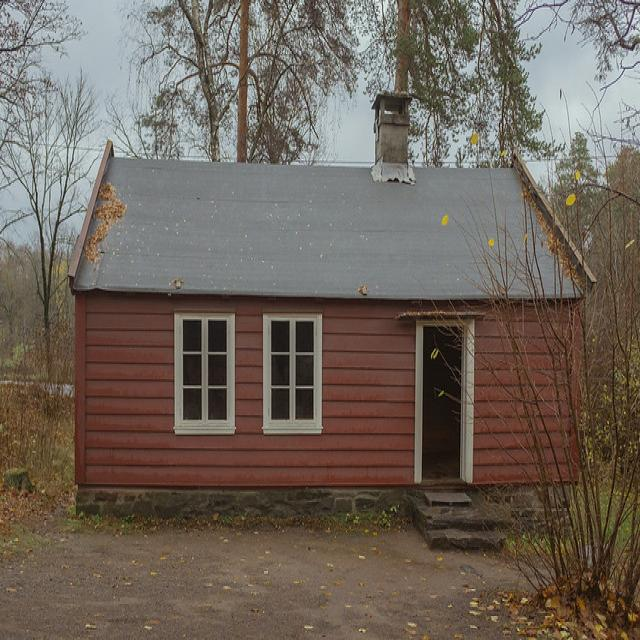Normal_building: (63, 134, 602, 516)
